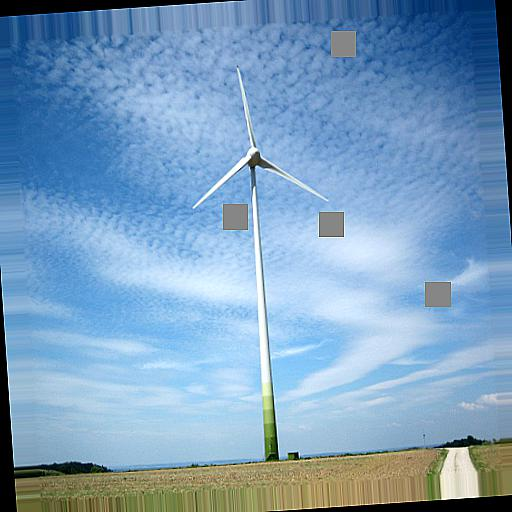wind turbine: (191, 64, 330, 457)
